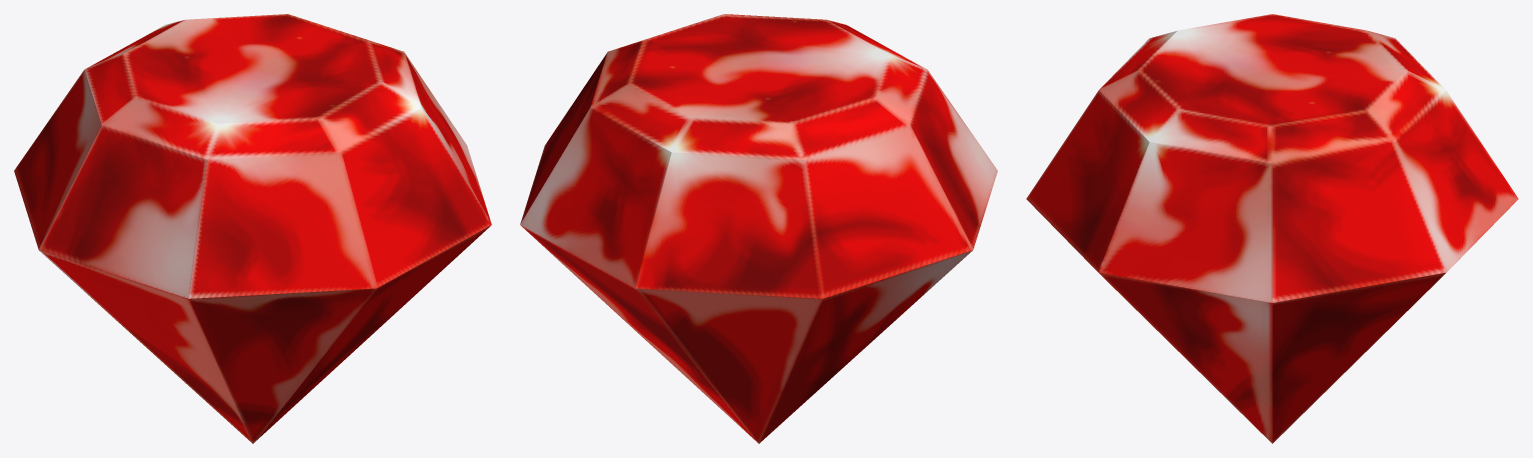
File: stone_red_004.fbx
3 renders of one model, left to right at view 1: azimuth 30°, elevation 25°; view 2: azimuth 150°, elevation 25°; view 3: azimuth 270°, elevation 25°, orthographic.
Parts seen in each view (by area): view 1: stone; view 2: stone; view 3: stone.
Part boxes in pixels (bbox=[...]): stone: bbox=[14, 14, 491, 443]; stone: bbox=[520, 14, 997, 443]; stone: bbox=[1026, 14, 1518, 443].
Size of the model in its own units: 6.85 by 5.73 by 6.85.
